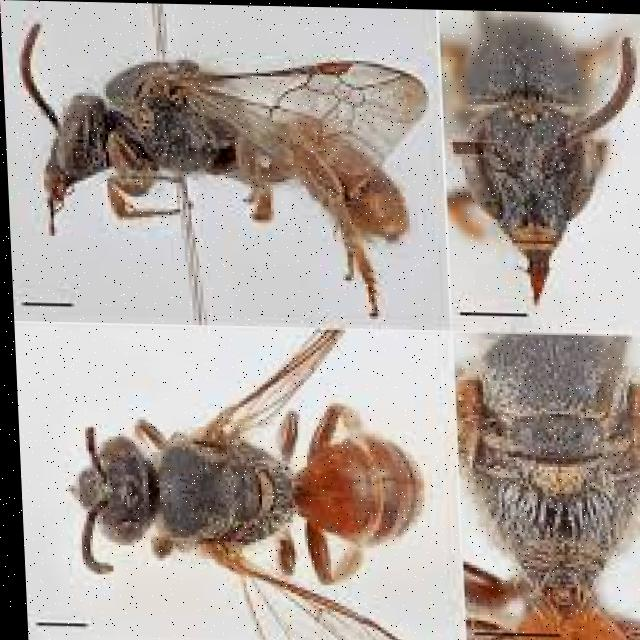Lasioglossum: (46, 317, 451, 640), (1, 18, 432, 303), (429, 8, 640, 319), (458, 326, 640, 640)
